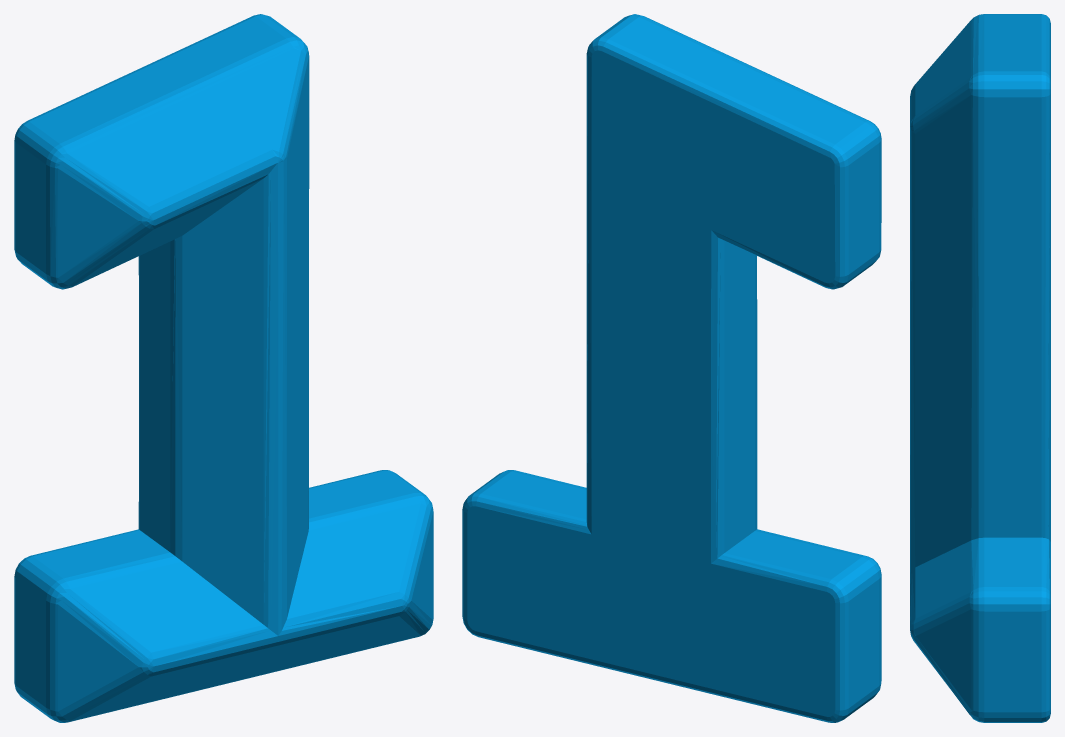
The model's file is one.obj.
3 renders of one model, left to right at view 1: azimuth 30°, elevation 25°; view 2: azimuth 150°, elevation 25°; view 3: azimuth 270°, elevation 25°, orthographic. The views are drawn at different scales.
Parts seen in each view (by area): view 1: Object.1; view 2: Object.1; view 3: Object.1.
Boxes of the visible parts, left/top/right/bottom form: Object.1: left=14, top=14, right=433, bottom=722; Object.1: left=462, top=14, right=881, bottom=722; Object.1: left=910, top=14, right=1050, bottom=722.
Bounding box in the file's own units: 15.8 × 24.64 × 5.32.
